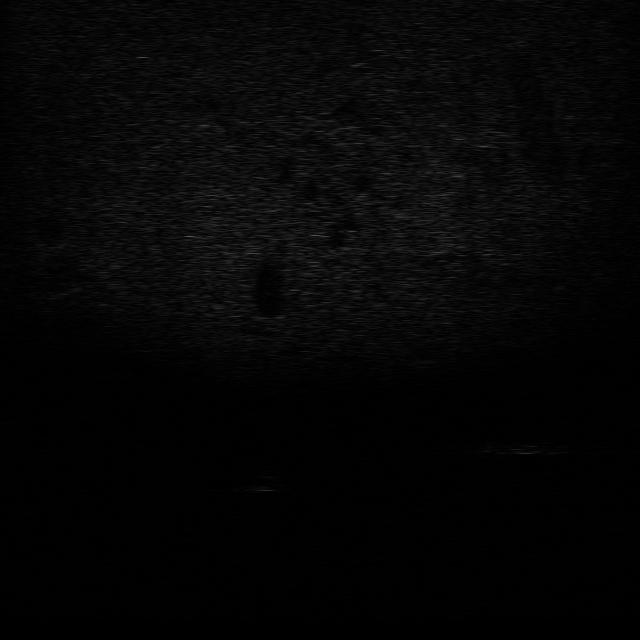ball: (243, 470, 285, 495)
human body: (480, 429, 570, 459)
